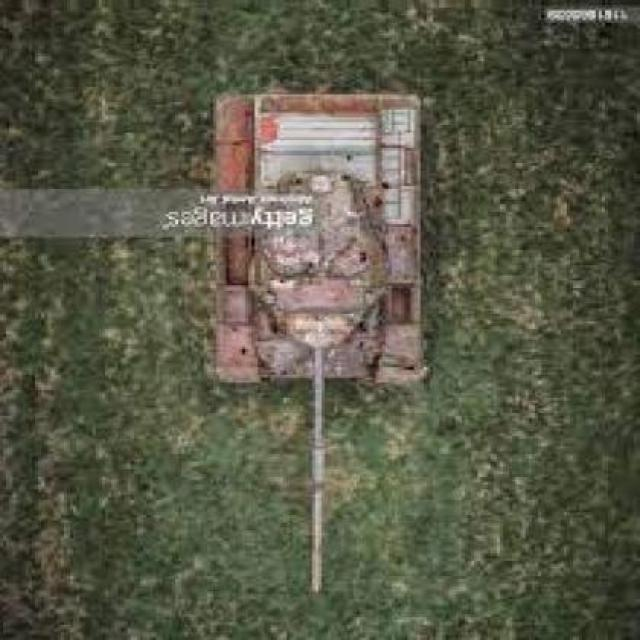tank: (211, 93, 424, 599)
